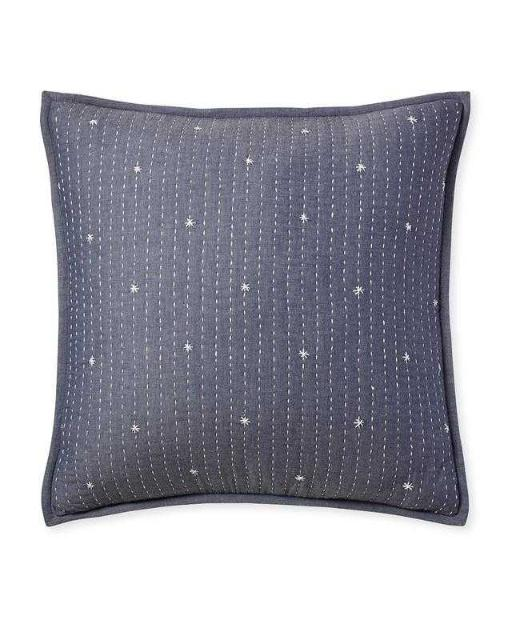pillow: (39, 89, 471, 528)
